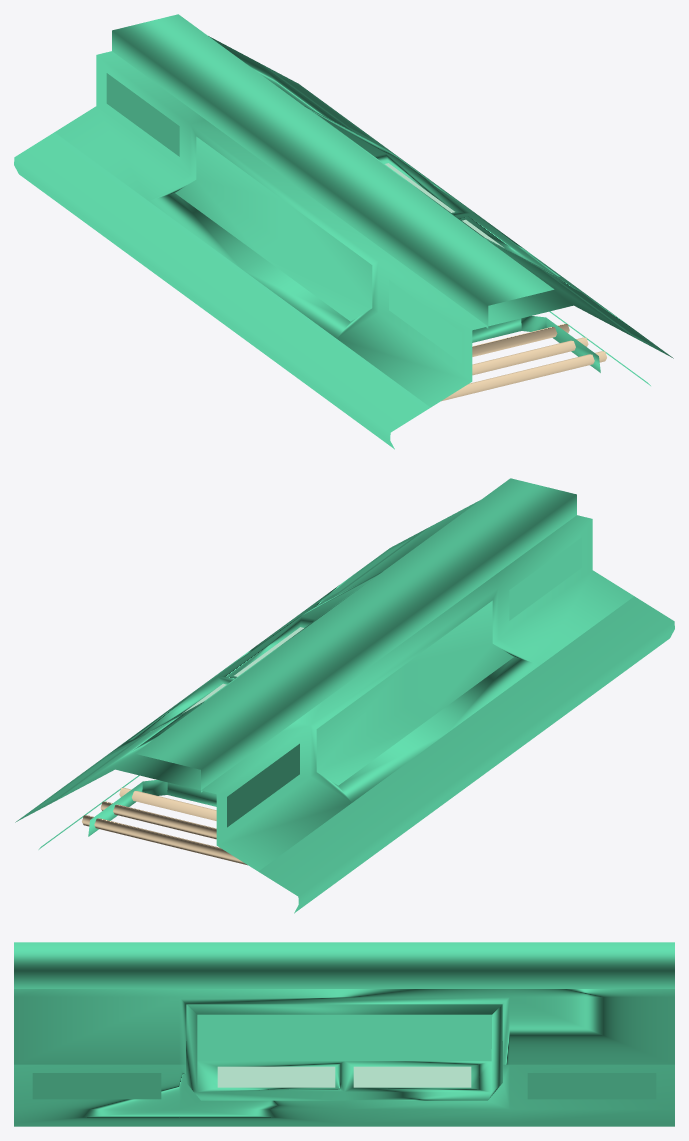
The model's file is roomlg_b_addon_ceiling_light_straight_02x04x01_lod2.glb.
The picture shows the model from 3 angles, top to bottom: view 1: azimuth 30°, elevation 25°; view 2: azimuth 150°, elevation 25°; view 3: azimuth 270°, elevation 25°; orthographic projection. The views are drawn at different scales.
Bounding box in the file's own units: 1.75 × 0.7112 × 4.
